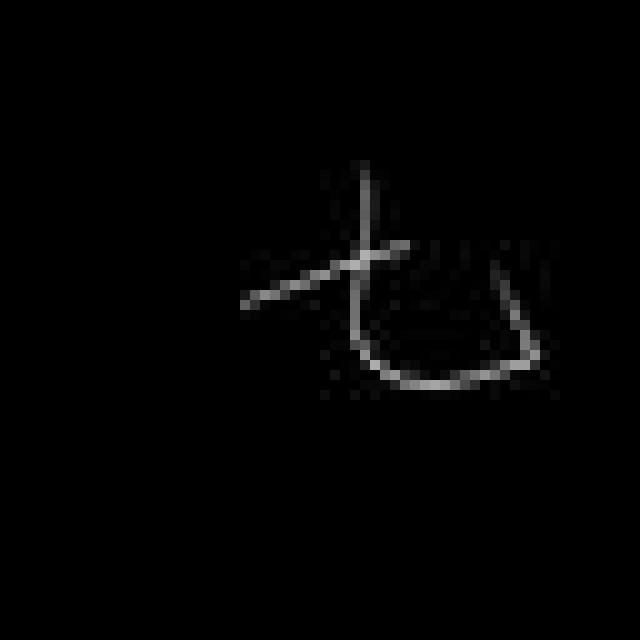7 -seven-: (230, 162, 548, 398)
